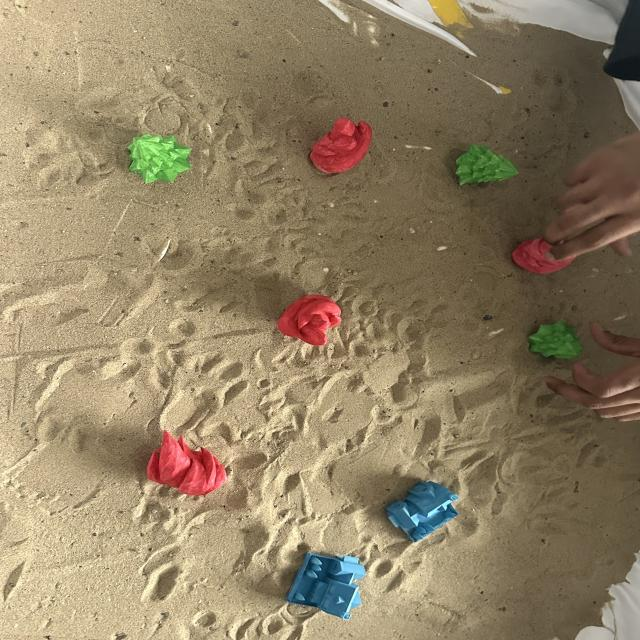fire: (145, 429, 228, 497), (307, 116, 373, 175), (276, 293, 343, 347), (510, 234, 576, 276)
house: (284, 551, 368, 621), (384, 479, 461, 542)
tree: (125, 132, 194, 184), (453, 140, 519, 191), (527, 319, 584, 364)
